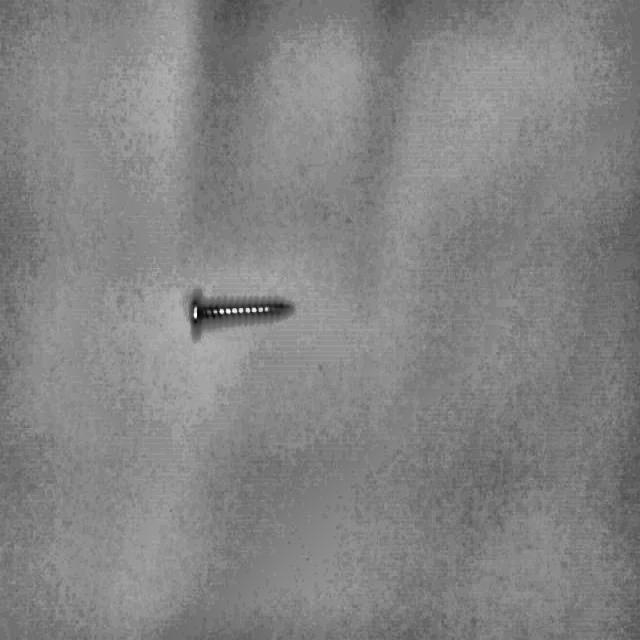Sheet metal screw: (190, 297, 292, 324)
